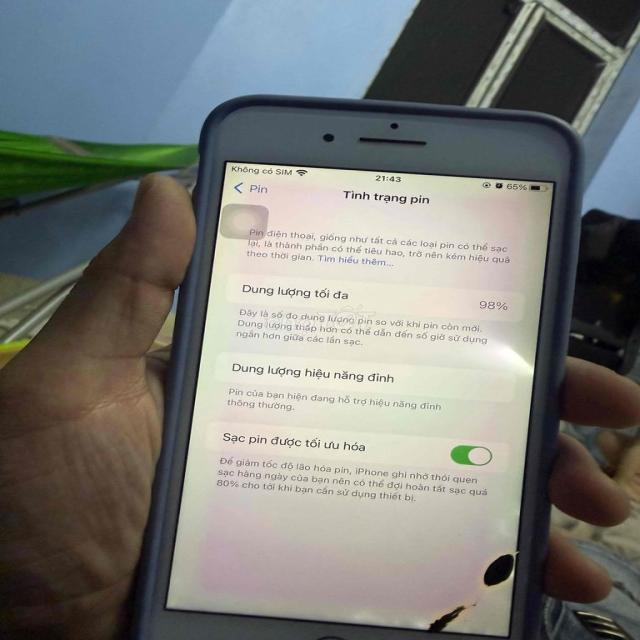physical_damage: (372, 533, 544, 640)
screen_defect: (470, 550, 532, 594), (408, 598, 472, 636)
